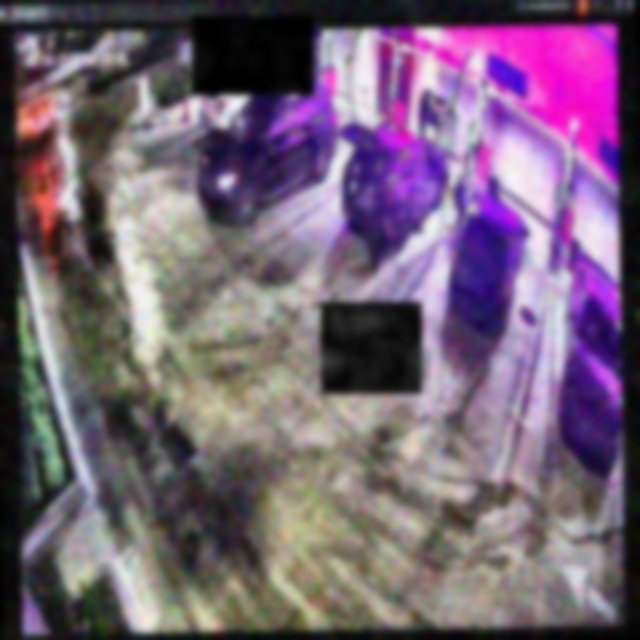Car: (197, 74, 340, 226), (339, 120, 446, 250), (448, 193, 526, 333), (198, 95, 297, 131)
